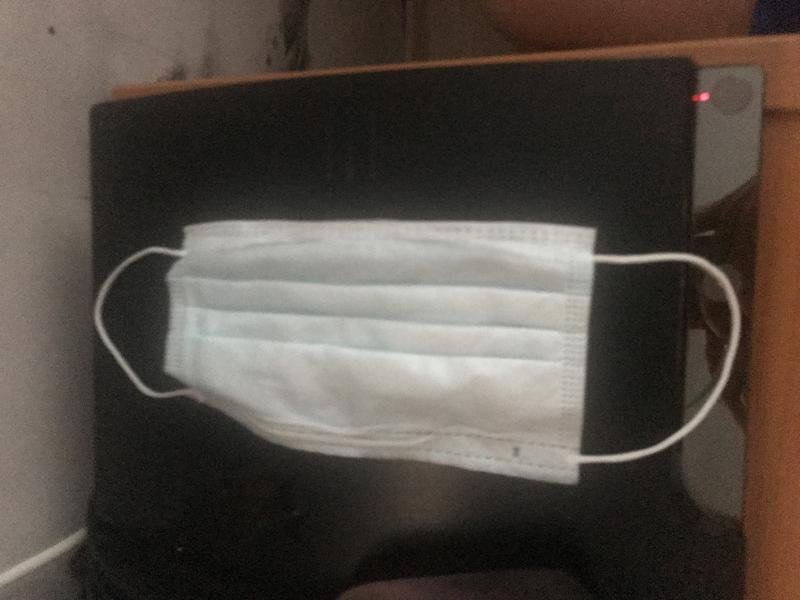medical_mask: (94, 221, 741, 484)
